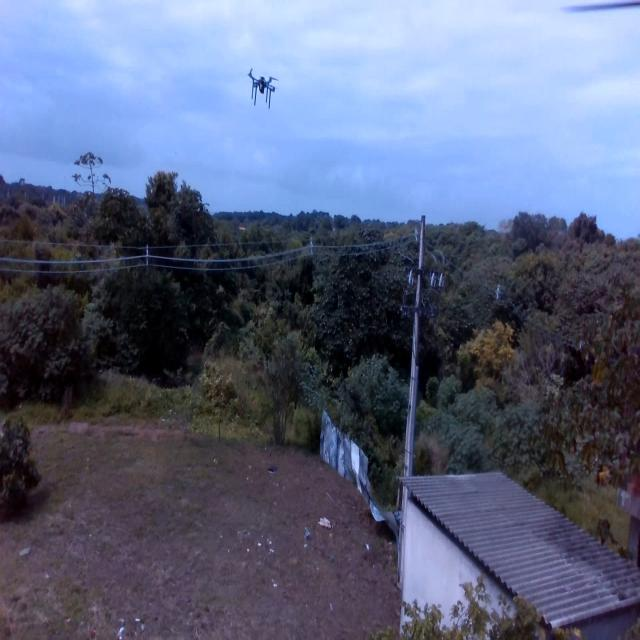-uav-: (242, 62, 286, 116)
